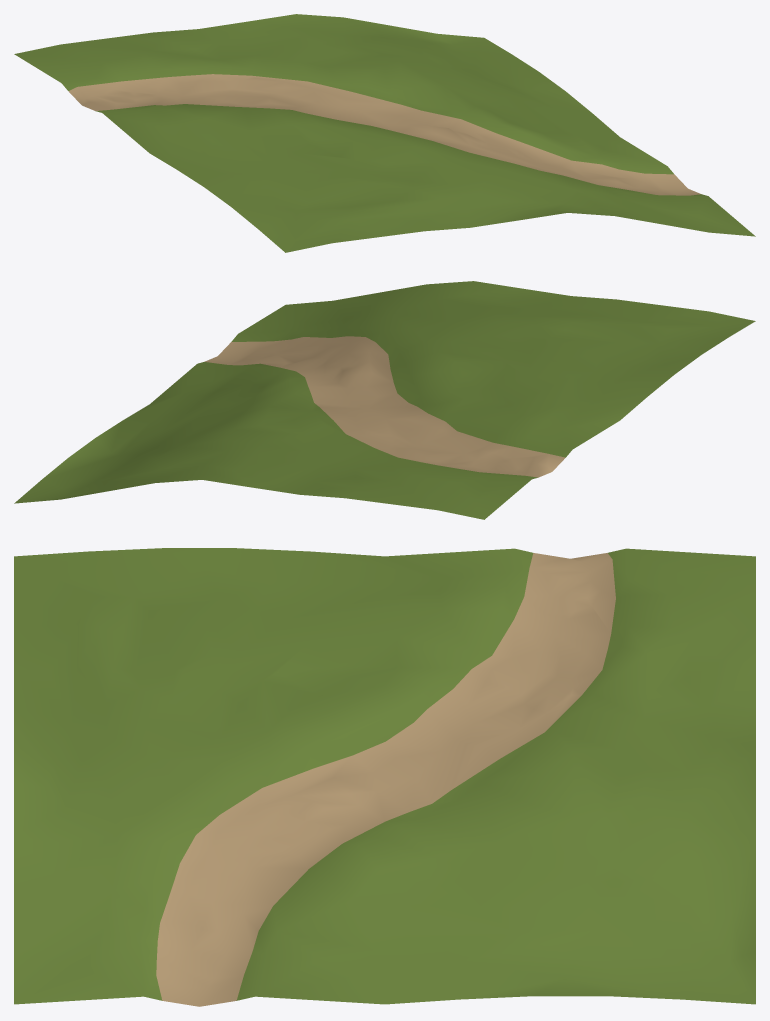
The model's file is rpgpp_ag_terrain_path_07_20x20m_slope_1-3m.fbx.
3 views of the same model, one above another, from view 1: azimuth 30°, elevation 25°; view 2: azimuth 150°, elevation 25°; view 3: azimuth 270°, elevation 25° (orthographic). The views are drawn at different scales.
Visible parts, largest first — view 1: rpgpp_ag_terrain_path_07_20x20m_slope_1-3m; view 2: rpgpp_ag_terrain_path_07_20x20m_slope_1-3m; view 3: rpgpp_ag_terrain_path_07_20x20m_slope_1-3m.
Part boxes in pixels (box(x1,y1,x2,y2)): rpgpp_ag_terrain_path_07_20x20m_slope_1-3m: box(14, 14, 755, 252); rpgpp_ag_terrain_path_07_20x20m_slope_1-3m: box(14, 281, 755, 519); rpgpp_ag_terrain_path_07_20x20m_slope_1-3m: box(14, 548, 755, 1006).
Bounding box in the file's own units: 20 × 4.32 × 20.
